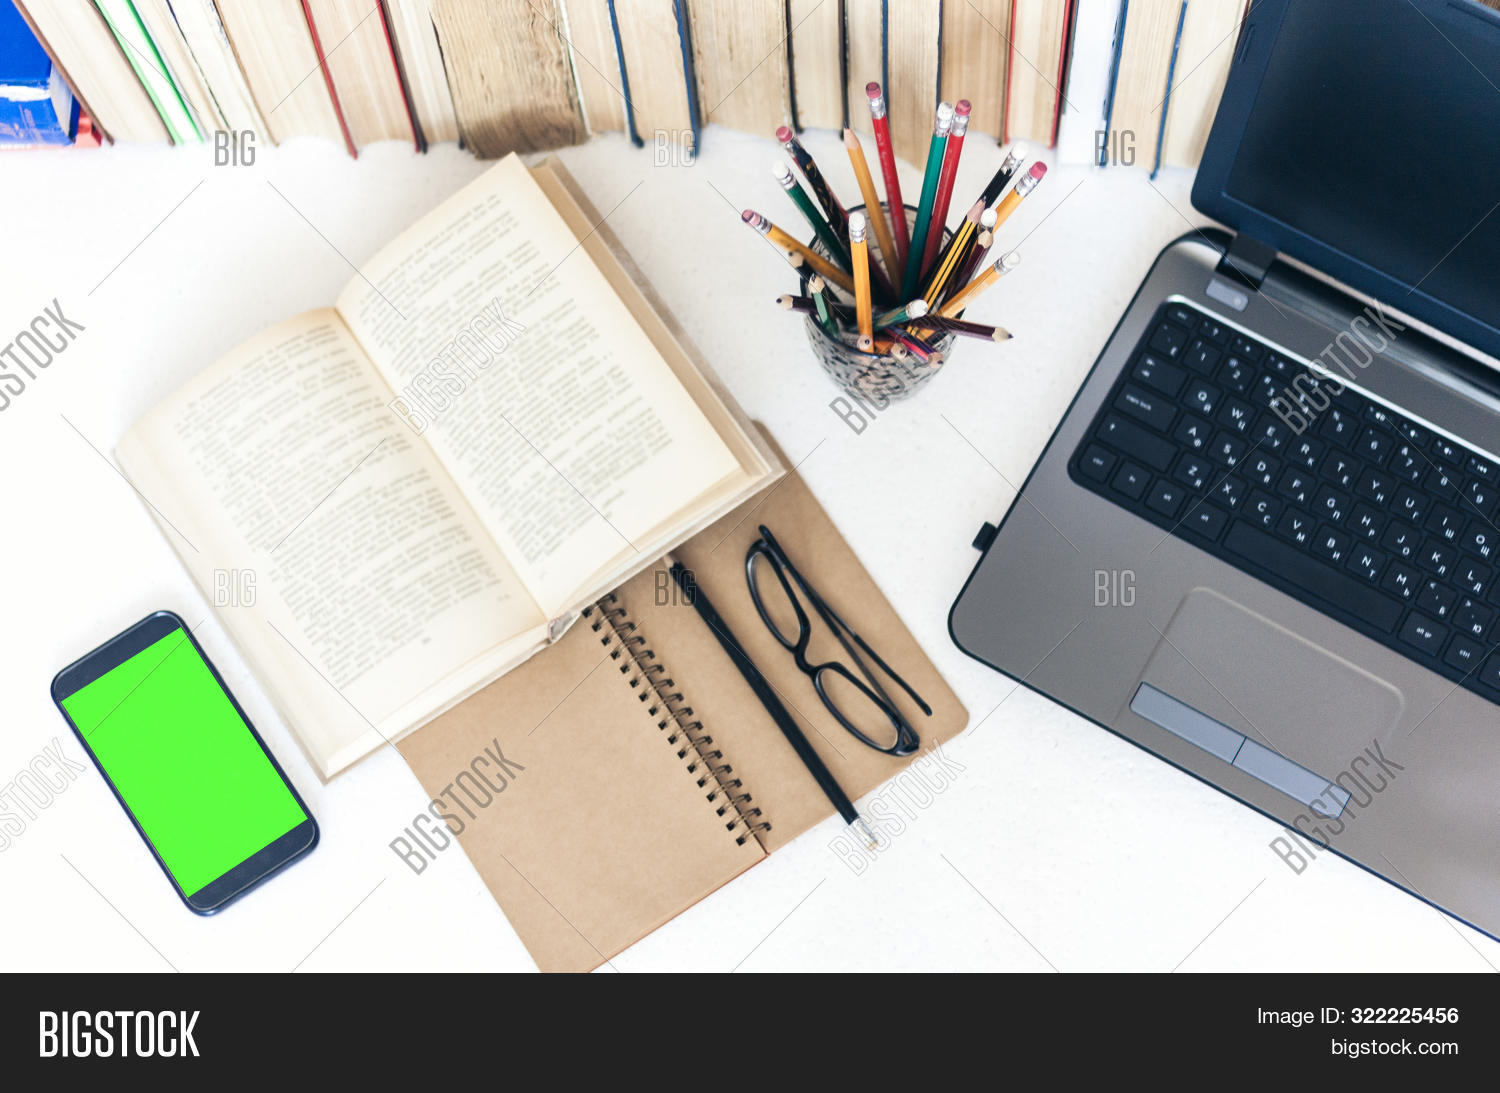Open Book: (109, 159, 762, 781)
